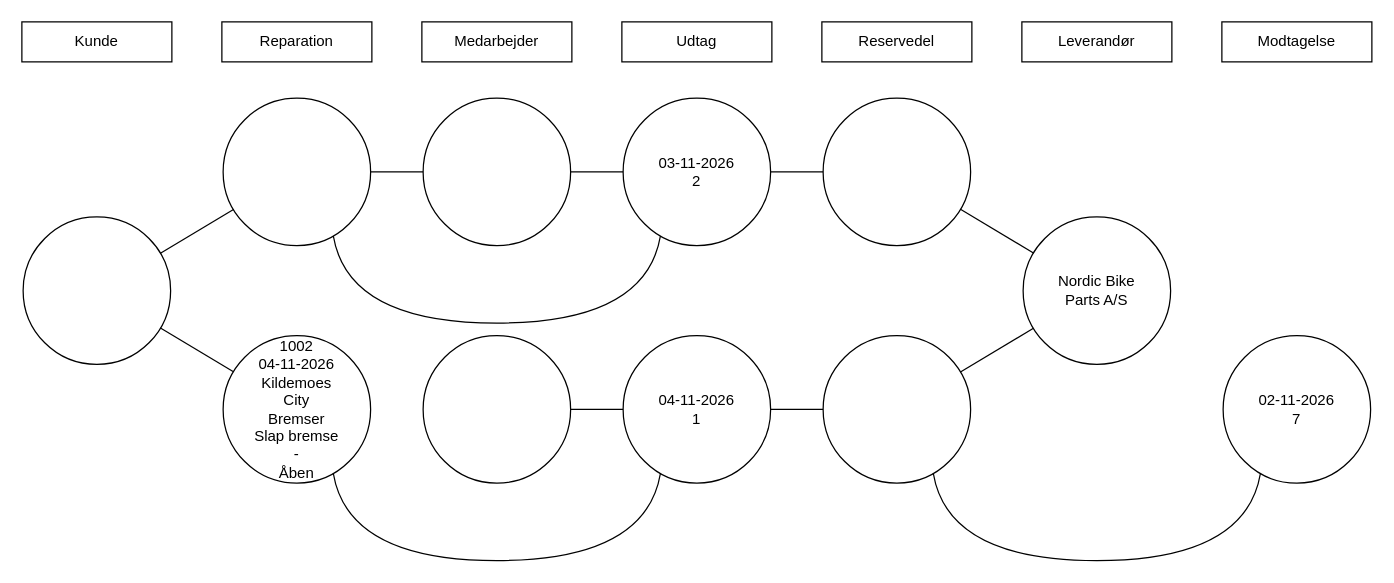
Some shapes in this 1394 by 583 pixel diagram are drawn without their labels. The shapes that lost their labels are listed below. From the top down, each one's box as (x1, y1, x2, y2) in pixels, then its label:
(222, 97, 371, 246): 1001 03-11-2026 Trek FX 2 Bremser Bremser hviner Skiftet klodser Lukket
(422, 97, 571, 246): John Pedersen JP
(822, 97, 971, 246): Bremseklodser 4 4
(22, 216, 171, 364): Frederik Eriksen +4523129428
(422, 334, 571, 483): Lise Madsen LM
(822, 334, 971, 483): Bremsekabel 9 3
